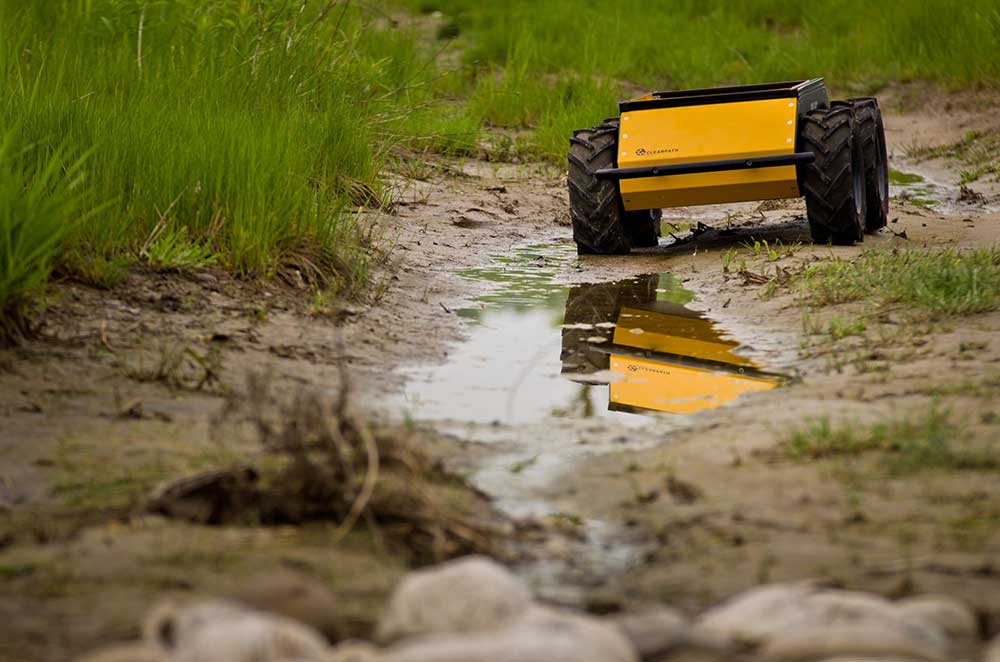husky: (567, 76, 889, 254)
